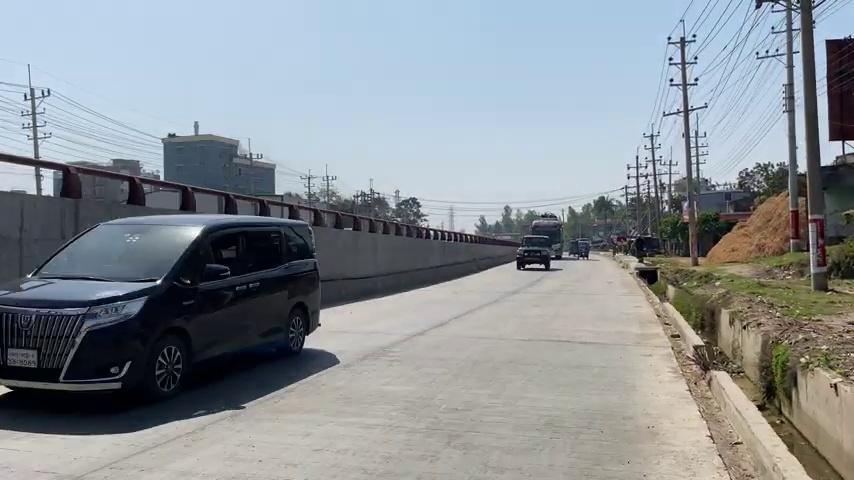Bollard: (0, 212, 321, 402), (515, 234, 552, 270)
Fallen-tree: (0, 151, 522, 305)
Garbage: (798, 0, 829, 291), (667, 19, 702, 265), (783, 1, 801, 251)
Garbage-bin: (727, 334, 854, 480), (635, 264, 658, 284)
Rickshaw: (529, 214, 563, 258)
